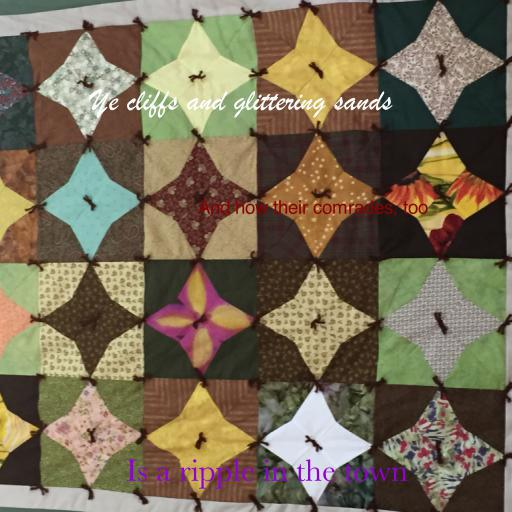Baskerville: (126, 459, 408, 489)
Brush Script MT: (90, 89, 392, 119)
SignPainter: (198, 200, 428, 217)
